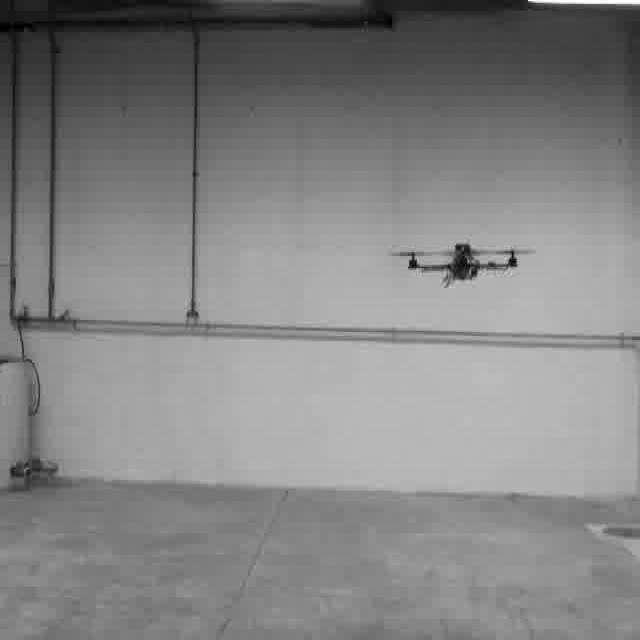drone: (390, 243, 538, 291)
